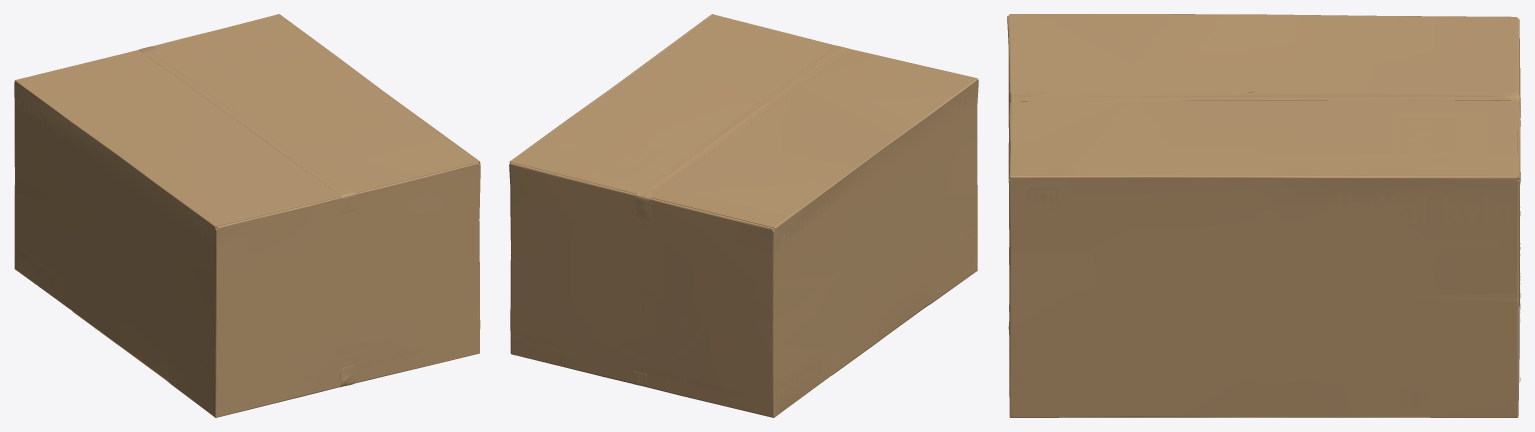
The model's file is box_corrugated_brown_b28.glb.
3 renders of one model, left to right at view 1: azimuth 30°, elevation 25°; view 2: azimuth 150°, elevation 25°; view 3: azimuth 270°, elevation 25°, orthographic. The views are drawn at different scales.
Bounding box in the file's own units: 0.222 × 0.1539 × 0.2942.
